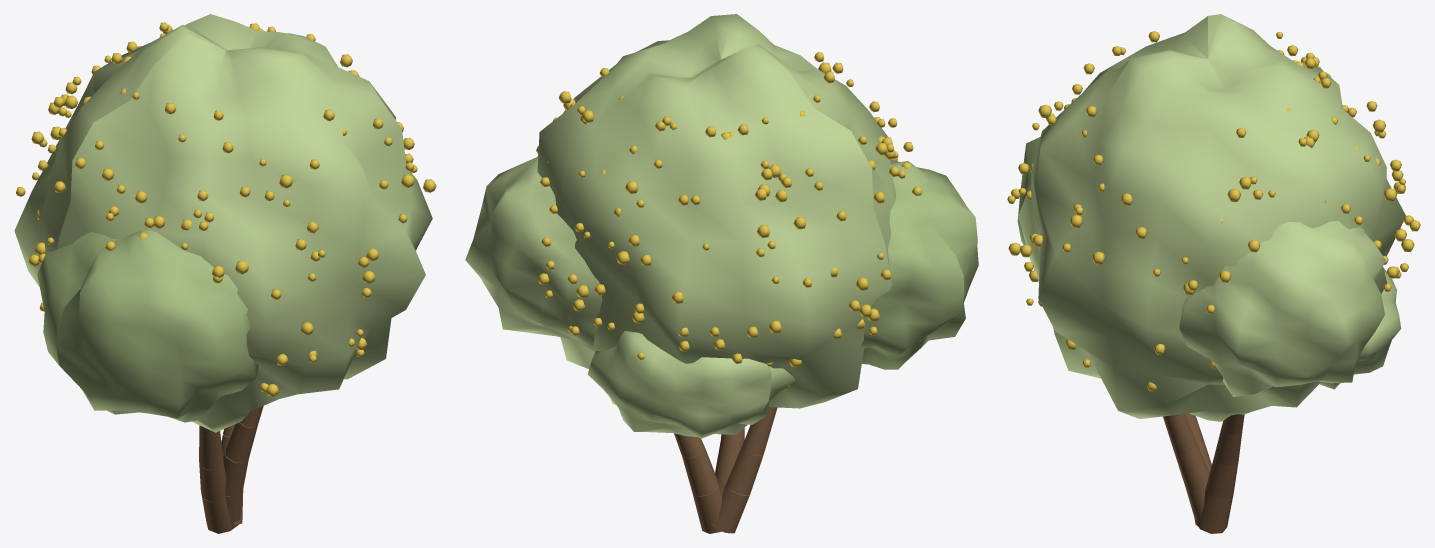
File: husos-som-tavasz.glb
The picture shows the model from 3 angles, left to right: view 1: azimuth 30°, elevation 25°; view 2: azimuth 150°, elevation 25°; view 3: azimuth 270°, elevation 25°; orthographic projection.
Visible parts, largest first — view 1: korona-1, korona-2, virag, to-3-3, to-1-2, to-1-1, to-1-3, to-3-2; view 2: korona-1, korona-2, korona-3, korona-5, virag, to-2-2, to-1-2, to-1-1, to-2-1, to-1-3, to-3-2; view 3: korona-1, korona-3, virag, korona-5, to-2-1, to-3-2, to-2-2, to-3-3, to-2-3, korona-2.
Part boxes in pixels (left/top/right/bottom): korona-1: left=14, top=14, right=432, bottom=432; korona-2: left=37, top=229, right=258, bottom=422; virag: left=16, top=22, right=436, bottom=396; to-3-3: left=225, top=422, right=257, bottom=462; to-1-2: left=199, top=460, right=226, bottom=502; to-1-1: left=201, top=493, right=232, bottom=533; to-1-3: left=199, top=430, right=223, bottom=470; to-3-2: left=223, top=451, right=248, bottom=496; korona-1: left=537, top=14, right=895, bottom=434; korona-2: left=860, top=160, right=978, bottom=369; korona-3: left=465, top=157, right=602, bottom=347; korona-5: left=587, top=330, right=795, bottom=438; virag: left=536, top=52, right=921, bottom=389; to-2-2: left=682, top=448, right=718, bottom=496; to-1-2: left=725, top=447, right=762, bottom=495; to-1-1: left=713, top=486, right=749, bottom=533; to-2-1: left=693, top=486, right=721, bottom=533; to-1-3: left=742, top=415, right=774, bottom=455; to-3-2: left=715, top=440, right=743, bottom=484; korona-1: left=1018, top=14, right=1405, bottom=421; korona-3: left=1179, top=221, right=1387, bottom=396; virag: left=1007, top=31, right=1420, bottom=391; korona-5: left=1319, top=268, right=1401, bottom=389; to-2-1: left=1195, top=489, right=1233, bottom=533; to-3-2: left=1174, top=444, right=1209, bottom=490; to-2-2: left=1205, top=456, right=1238, bottom=498; to-3-3: left=1163, top=414, right=1197, bottom=453; to-2-3: left=1214, top=427, right=1242, bottom=465; korona-2: left=1017, top=137, right=1040, bottom=244.
Bounding box in the file's own units: 4.43 × 5.15 × 3.88.
